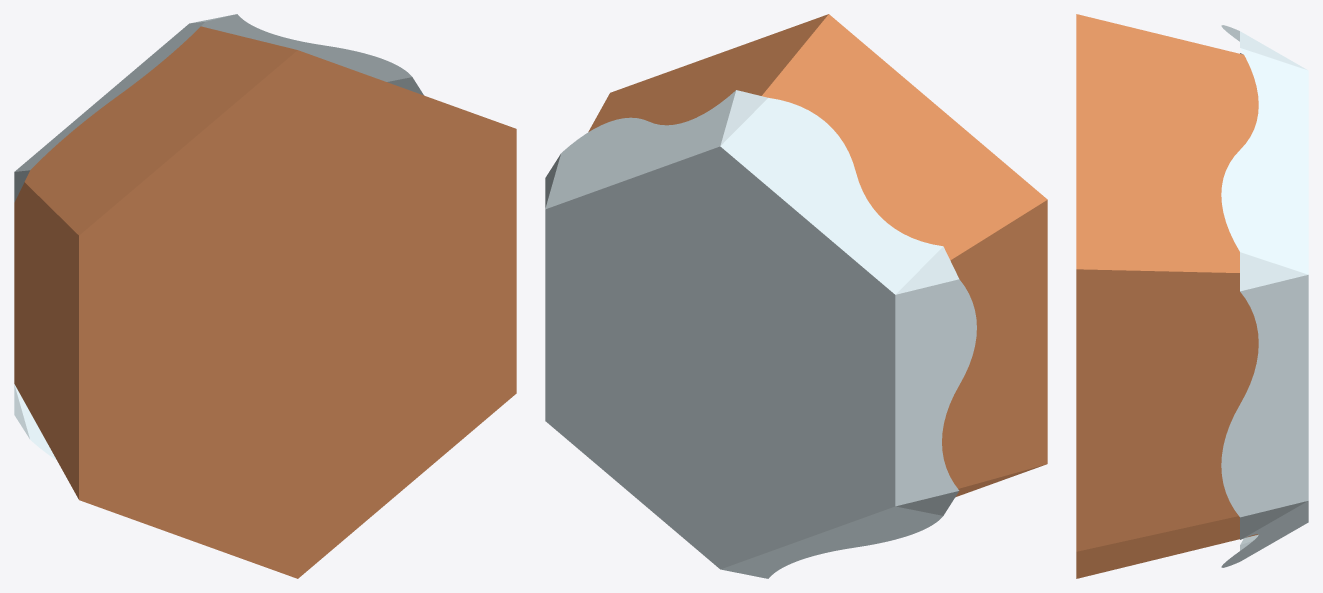
Rendered from blockSnowHexagonLow.obj.
3 renders of one model, left to right at view 1: azimuth 30°, elevation 25°; view 2: azimuth 150°, elevation 25°; view 3: azimuth 270°, elevation 25°, orthographic. The views are drawn at different scales.
Visible parts, largest first — view 1: blockSnowHexagonLow; view 2: blockSnowHexagonLow; view 3: blockSnowHexagonLow.
Boxes of the visible parts, <box> form: blockSnowHexagonLow: <box>14,14,516,578</box>; blockSnowHexagonLow: <box>545,14,1047,578</box>; blockSnowHexagonLow: <box>1076,14,1308,578</box>.
Size of the model in its own units: 1 by 1.15 by 0.4298.
